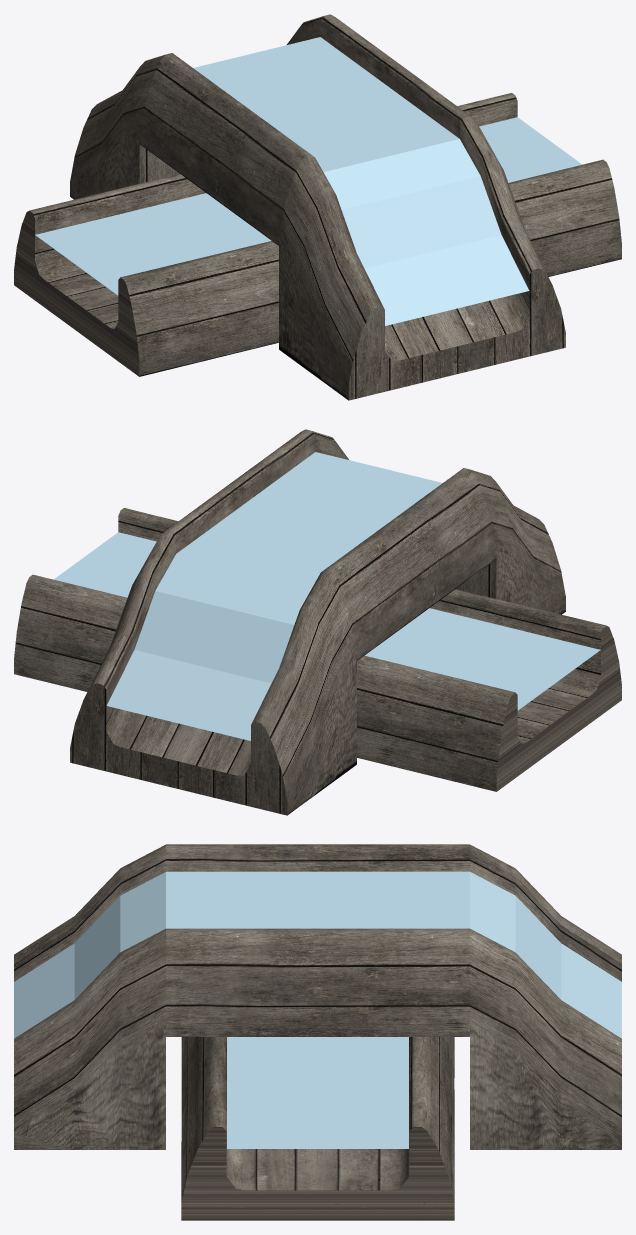
The model's file is aqueduct.glb.
3 views of the same model, one above another, from view 1: azimuth 30°, elevation 25°; view 2: azimuth 150°, elevation 25°; view 3: azimuth 270°, elevation 25° (orthographic). The views are drawn at different scales.
Visible parts, largest first — view 1: Channel, Water.001, Water; view 2: Channel, Water.001, Water; view 3: Channel, Water.001, Water.
Part boxes in pixels (box(x1,y1,x2,y2)): Channel: box(14, 14, 621, 400); Water.001: box(193, 37, 529, 325); Water: box(35, 117, 581, 295); Channel: box(14, 429, 621, 815); Water.001: box(106, 452, 442, 740); Water: box(54, 532, 600, 710); Channel: box(14, 844, 621, 1220); Water.001: box(14, 871, 621, 1038); Water: box(227, 1037, 408, 1148).
Bounding box in the file's own units: 2 × 0.74 × 2.
2 materials, 1 textured.
